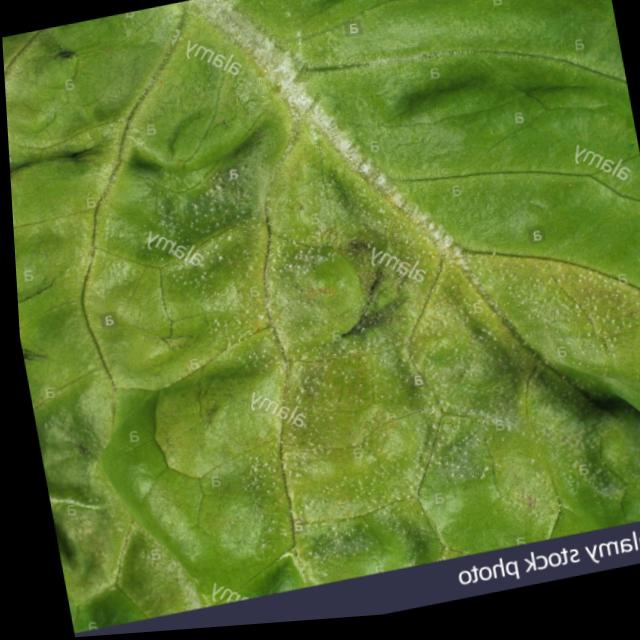Bad: (3, 0, 640, 629)
